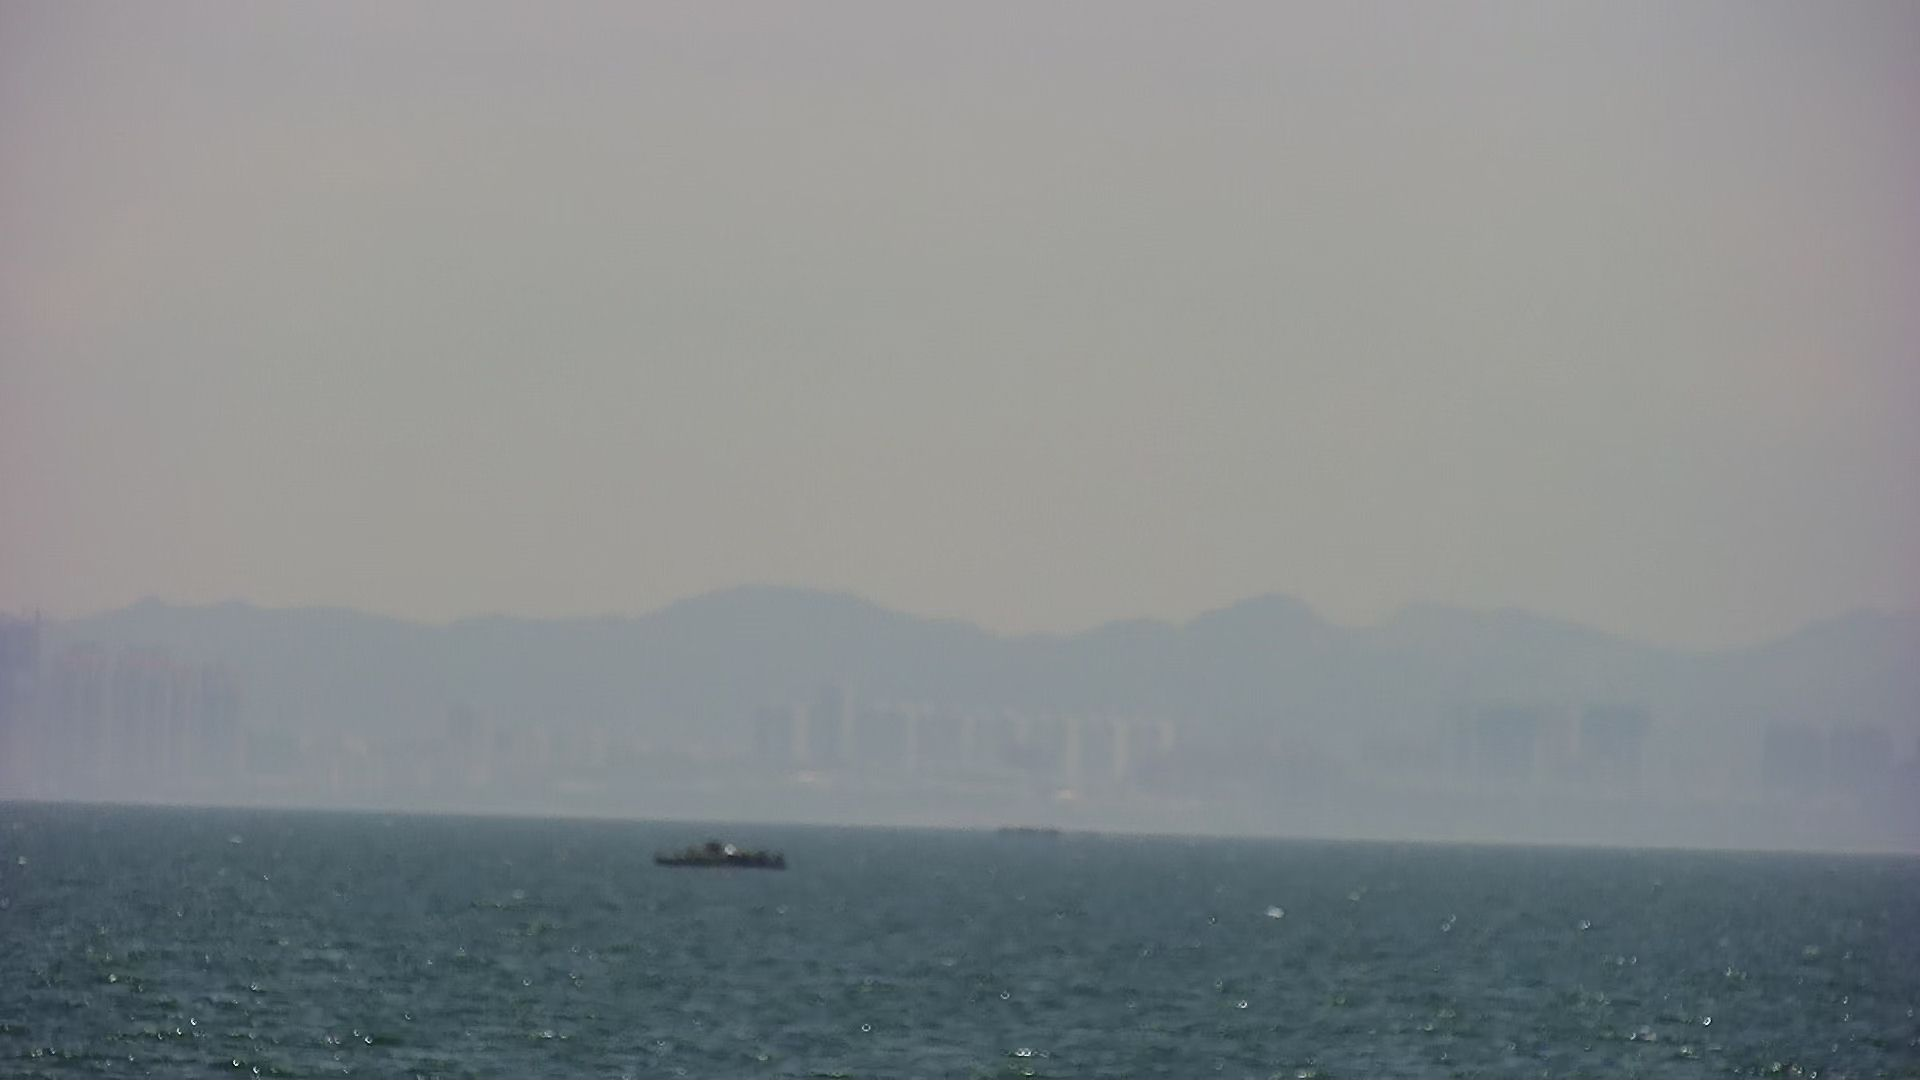platform: (629, 822, 800, 878)
